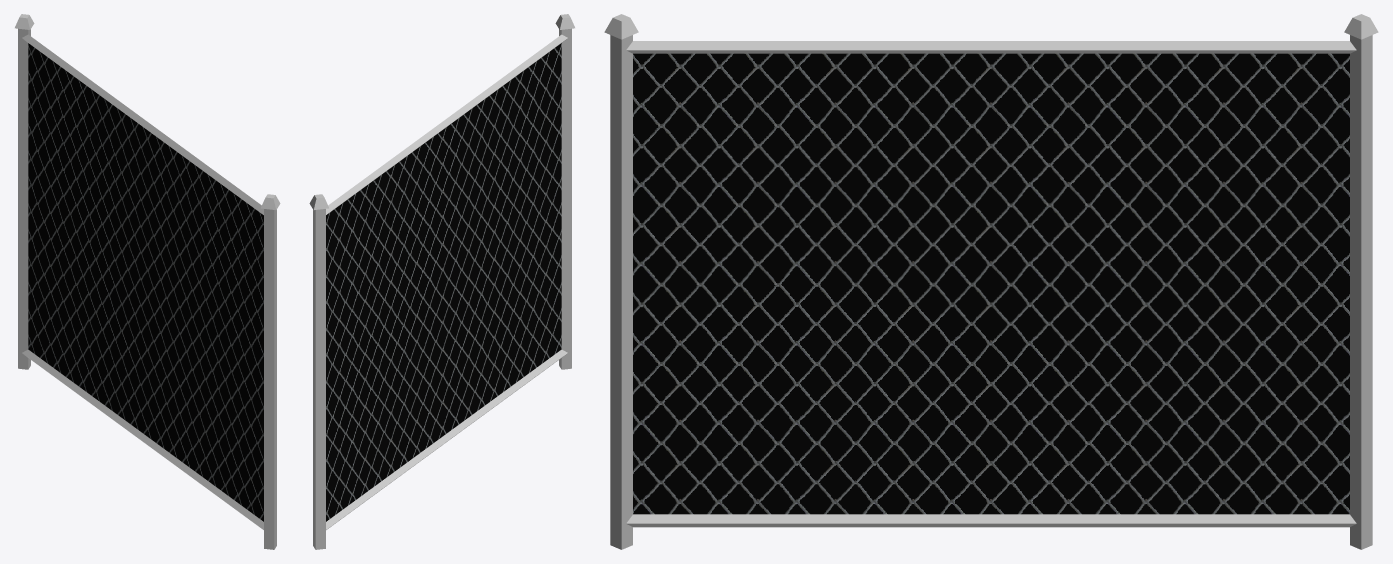
The model's file is chain fence.fbx.
3 views of the same model, side by side, from view 1: azimuth 30°, elevation 25°; view 2: azimuth 150°, elevation 25°; view 3: azimuth 270°, elevation 25° (orthographic). The views are drawn at different scales.
Parts seen in each view (by area): view 1: Fence; view 2: Fence; view 3: Fence.
Part boxes in pixels (bbox=[...]): Fence: bbox=[15, 14, 280, 549]; Fence: bbox=[309, 14, 574, 549]; Fence: bbox=[604, 14, 1378, 549].
Size of the model in its own units: 11.86 by 199 by 265.
